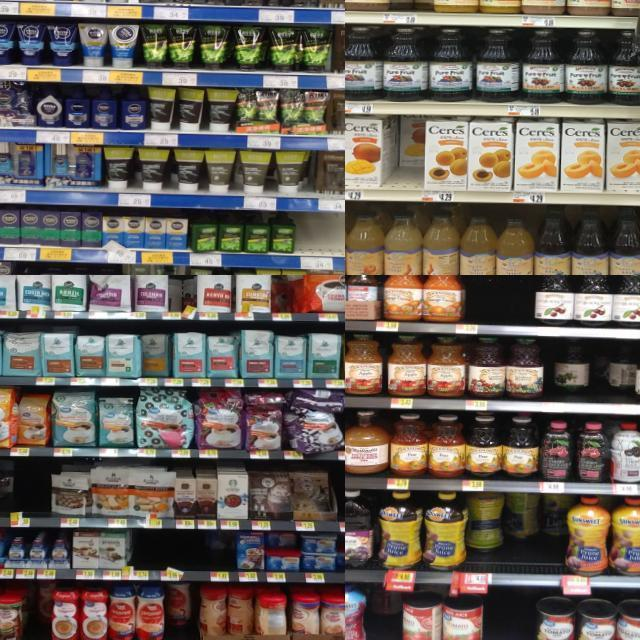Imprecise: (467, 489, 565, 575), (545, 337, 640, 402), (378, 114, 426, 190), (160, 582, 199, 640), (20, 580, 59, 636), (270, 266, 308, 319), (205, 529, 238, 575), (140, 330, 168, 382), (167, 272, 201, 310)
